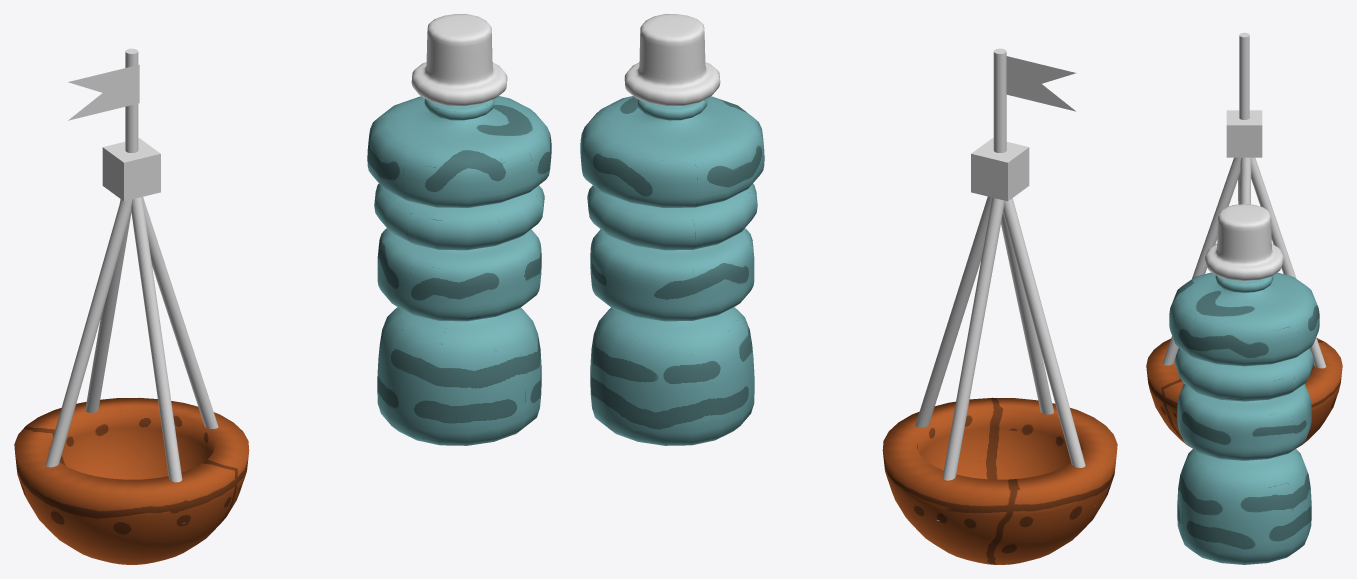
File: FLOATERS.fbx
3 renders of one model, left to right at view 1: azimuth 30°, elevation 25°; view 2: azimuth 150°, elevation 25°; view 3: azimuth 270°, elevation 25°, orthographic. The views are drawn at different scales.
Parts seen in each view (by area): view 1: Cube.071, Sphere, Cube.072, Cylinder.003, Cylinder.002, Cube.073, Cylinder, Plane.001, Cylinder.001, Cylinder.004; view 2: Cube.071, Sphere, Cube.072, Cylinder.001, Cylinder.002, Cylinder, Cube.073, Cylinder.003, Plane.001, Cylinder.004; view 3: Cube.071, Cube.072, Sphere, Cube.073, Cylinder.003, Cylinder.001, Cylinder.004, Cylinder.
Boxes of the visible parts, x1,y1,x2,y2 form: Cube.071: [367, 96, 551, 445]; Sphere: [14, 397, 249, 564]; Cube.072: [411, 14, 507, 106]; Cylinder.003: [131, 197, 185, 523]; Cylinder.002: [45, 199, 132, 467]; Cube.073: [102, 138, 160, 201]; Cylinder: [142, 197, 218, 428]; Plane.001: [68, 64, 139, 120]; Cylinder.001: [85, 199, 131, 412]; Cylinder.004: [125, 48, 138, 152]; Cube.071: [580, 96, 764, 445]; Sphere: [882, 397, 1117, 564]; Cube.072: [624, 14, 720, 106]; Cylinder.001: [936, 197, 1004, 520]; Cylinder.002: [1003, 198, 1085, 467]; Cylinder: [915, 196, 992, 427]; Cube.073: [971, 138, 1029, 201]; Cylinder.003: [1001, 213, 1053, 414]; Plane.001: [1006, 56, 1076, 111]; Cylinder.004: [993, 48, 1006, 152]; Cube.071: [1169, 272, 1319, 564]; Cube.072: [1204, 204, 1284, 280]; Sphere: [1146, 338, 1342, 448]; Cube.073: [1226, 110, 1262, 157]; Cylinder.003: [1162, 157, 1240, 365]; Cylinder.001: [1251, 157, 1326, 368]; Cylinder.004: [1239, 32, 1249, 119]; Cylinder: [1240, 157, 1251, 204].
Size of the model in its own units: 276 by 260 by 110.
